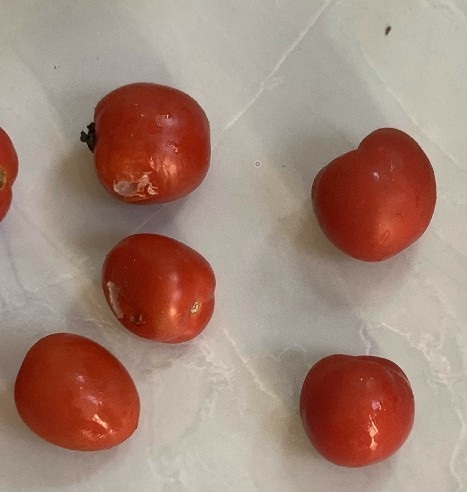NG: (77, 80, 210, 208), (99, 232, 218, 344)
OK: (302, 125, 441, 264), (11, 327, 143, 453), (295, 349, 419, 471)
